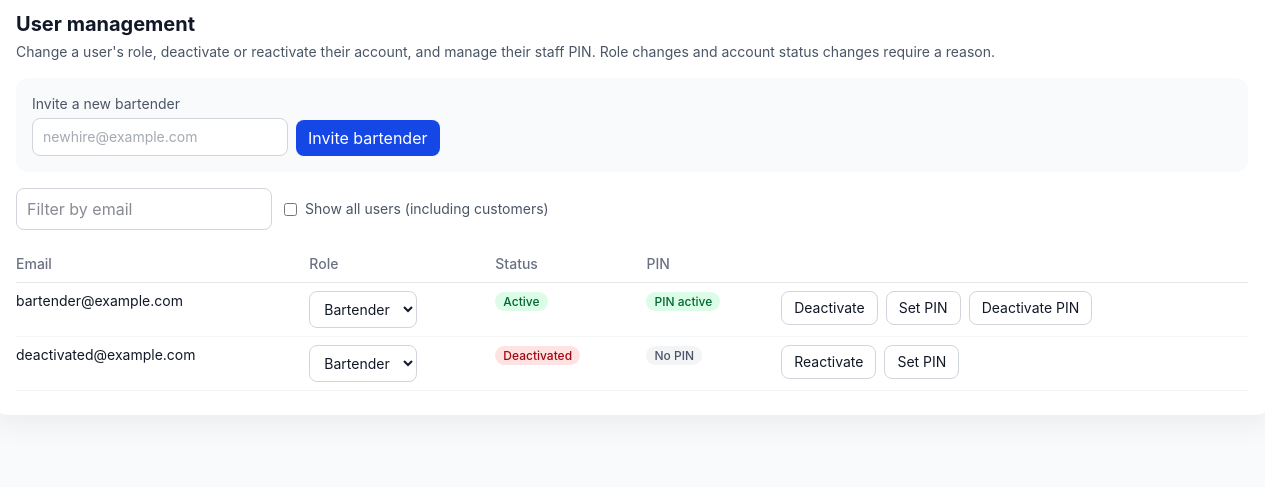
AdminUsers › reveals customer accounts via the "show all" toggle, and hides them again when unchecked
Expected: the text "bartender@example.com" is shown, [16, 282, 309, 336]
Expected: the text "customer@example.com" is not shown
Click the checkbox labelled "Show all users (including customers)" at coordinates (290, 209), box [284, 202, 297, 216]
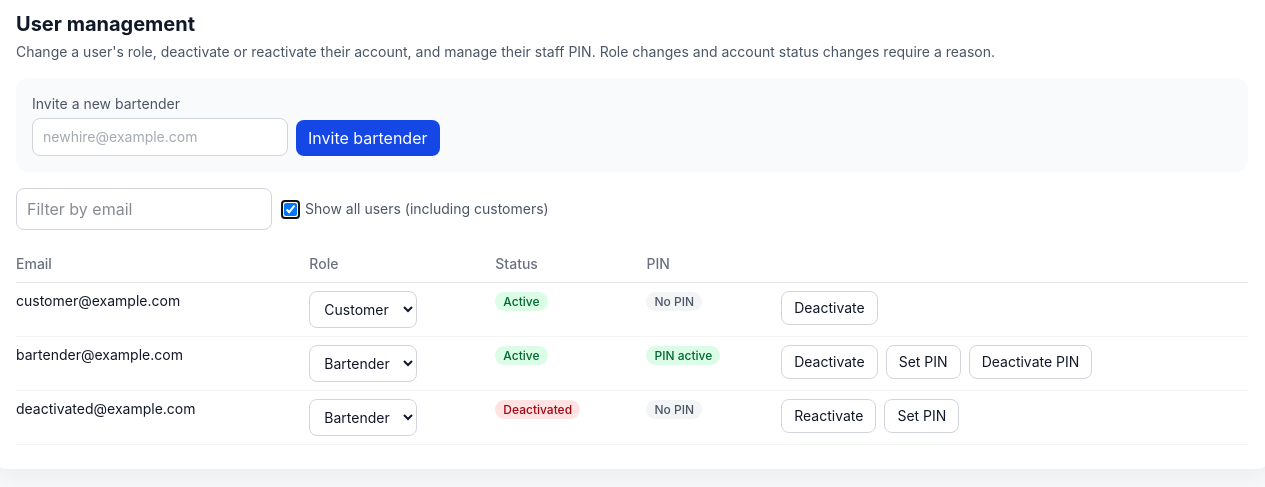
Now the text "customer@example.com" is shown, box [16, 282, 309, 336]
Click the checkbox labelled "Show all users (including customers)" at coordinates (290, 209), box [284, 202, 297, 216]
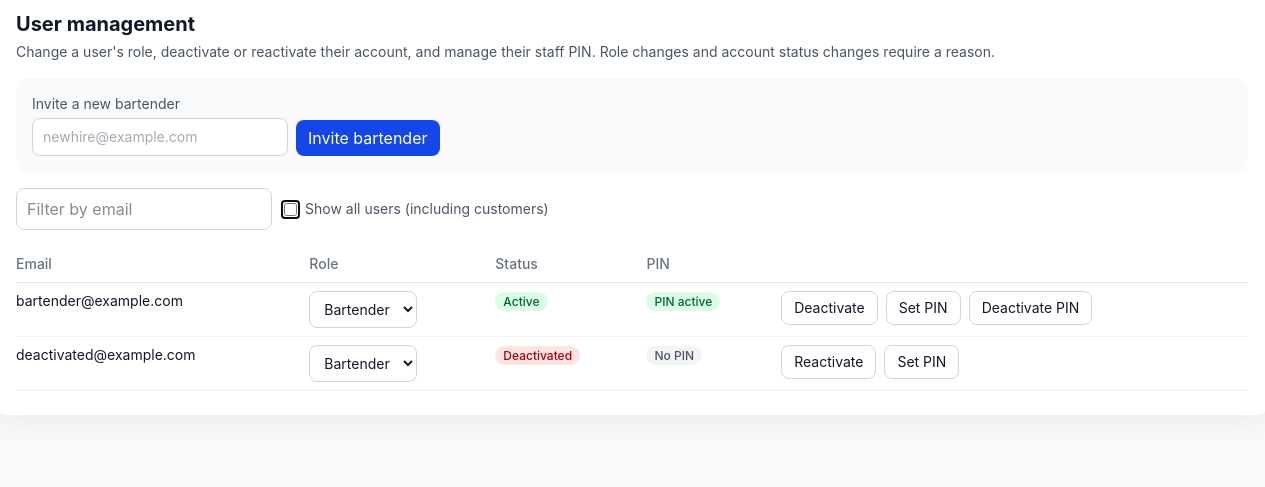
Now the text "customer@example.com" is gone
